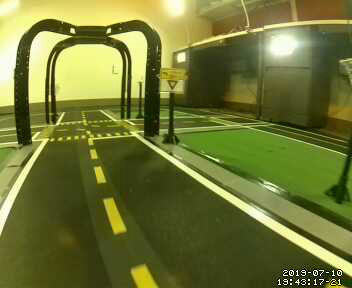Turn Yield: (157, 67, 186, 95)
